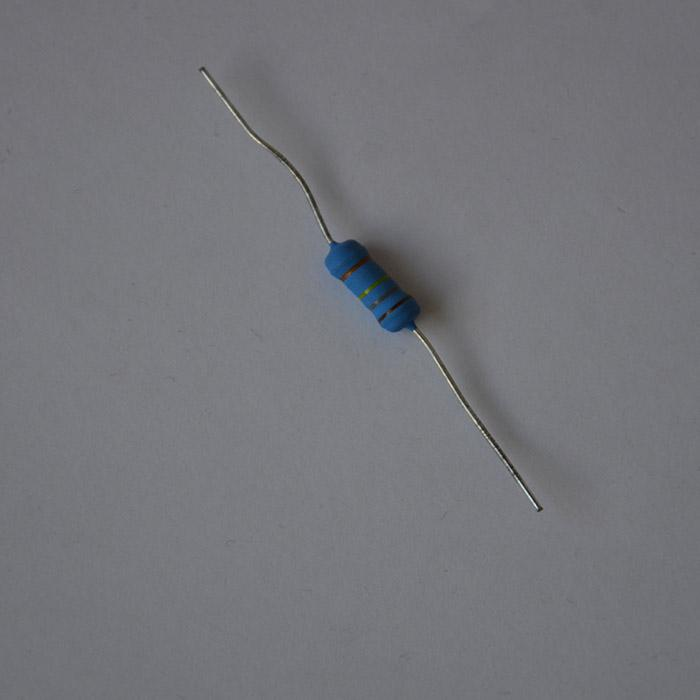resistor: (324, 236, 418, 334)
